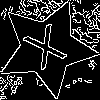X: (21, 23, 74, 80)
